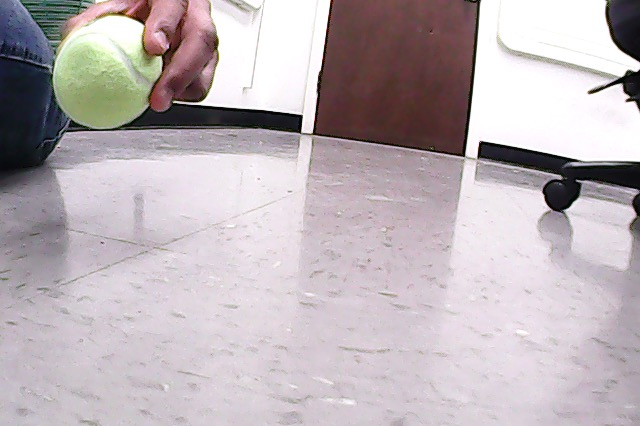ball: (54, 17, 163, 129)
